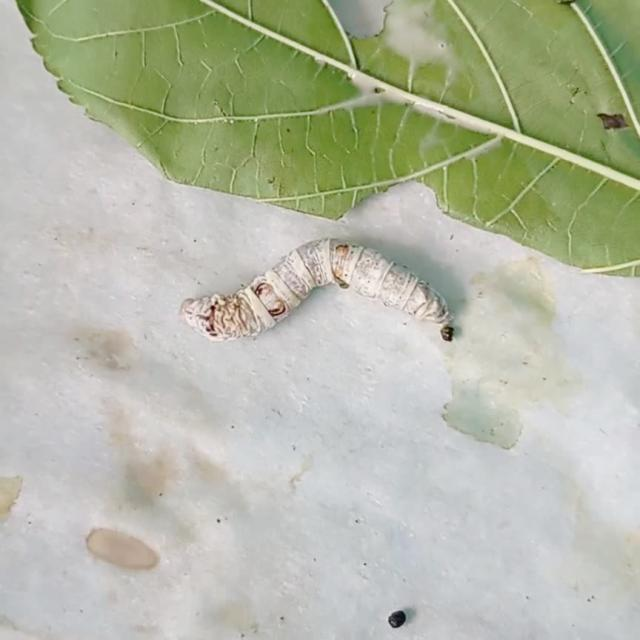Grasserie: (160, 218, 480, 411)
